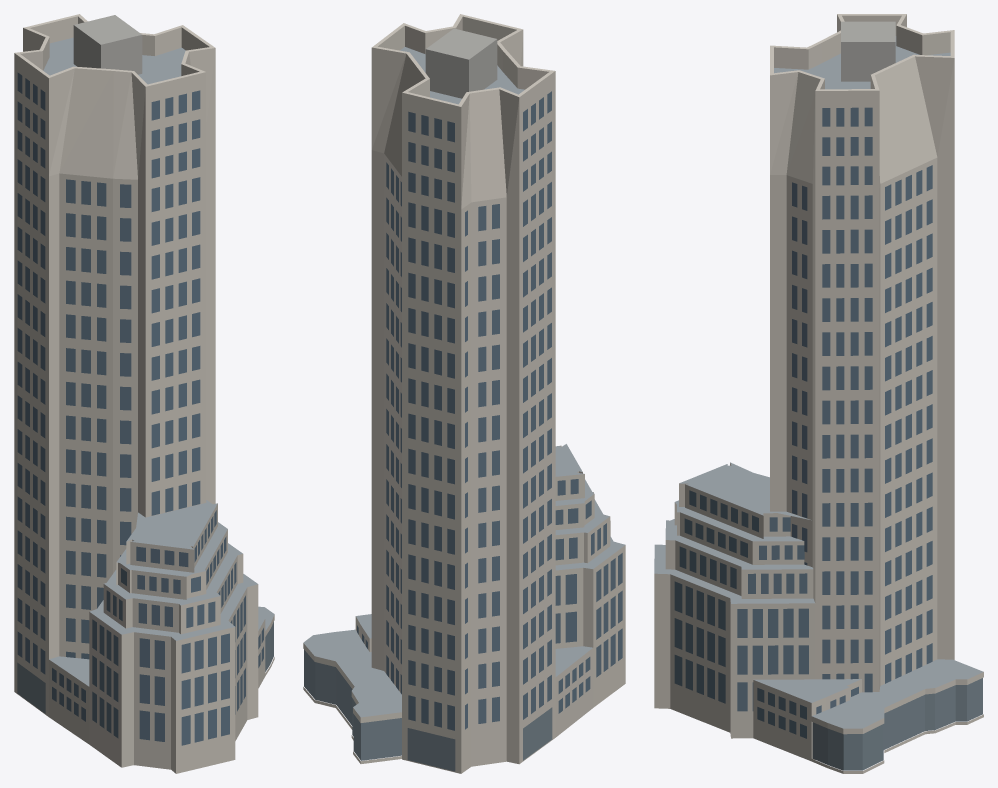
File: pit-bny-mellon-center.glb
The picture shows the model from 3 angles, left to right: view 1: azimuth 30°, elevation 25°; view 2: azimuth 150°, elevation 25°; view 3: azimuth 270°, elevation 25°; orthographic projection. The views are drawn at different scales.
Parts seen in each view (by area): view 1: BNY Mellon Center; view 2: BNY Mellon Center; view 3: BNY Mellon Center.
Part boxes in pixels (left/top/right/bottom): BNY Mellon Center: left=14, top=14, right=274, bottom=773; BNY Mellon Center: left=303, top=14, right=625, bottom=773; BNY Mellon Center: left=654, top=14, right=983, bottom=773.
Size of the model in its own units: 82.94 by 228 by 102.
